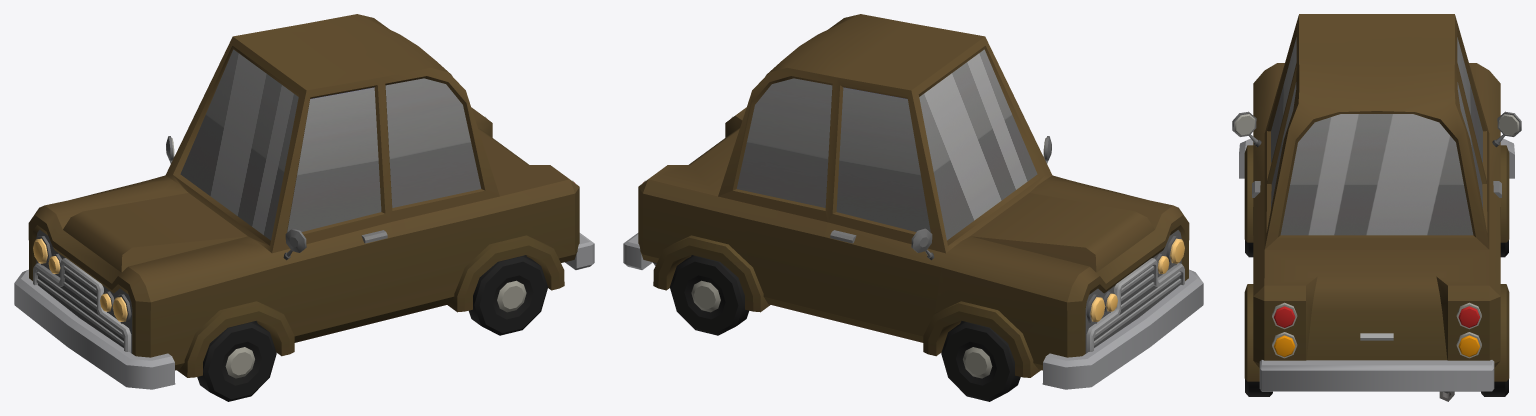
The model's file is Car_8_P.gltf.
3 views of the same model, side by side, from view 1: azimuth 30°, elevation 25°; view 2: azimuth 150°, elevation 25°; view 3: azimuth 270°, elevation 25° (orthographic). The views are drawn at different scales.
Parts seen in each view (by area): view 1: Car_8_P, RL, FL; view 2: Car_8_P, RR, FR; view 3: Car_8_P, RL, RR.
Boxes of the visible parts, <box> form: Car_8_P: <box>14,14,594,389</box>; RL: <box>469,255,547,335</box>; FL: <box>197,321,276,401</box>; Car_8_P: <box>623,14,1203,389</box>; RR: <box>670,255,748,335</box>; FR: <box>941,321,1020,401</box>; Car_8_P: <box>1232,14,1521,401</box>; RL: <box>1245,379,1272,396</box>; RR: <box>1481,379,1508,396</box>.
Bounding box in the file's own units: 3.38 × 1.84 × 1.7.
3 materials, 3 textured.
